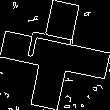L_E: (27, 34, 83, 76)
